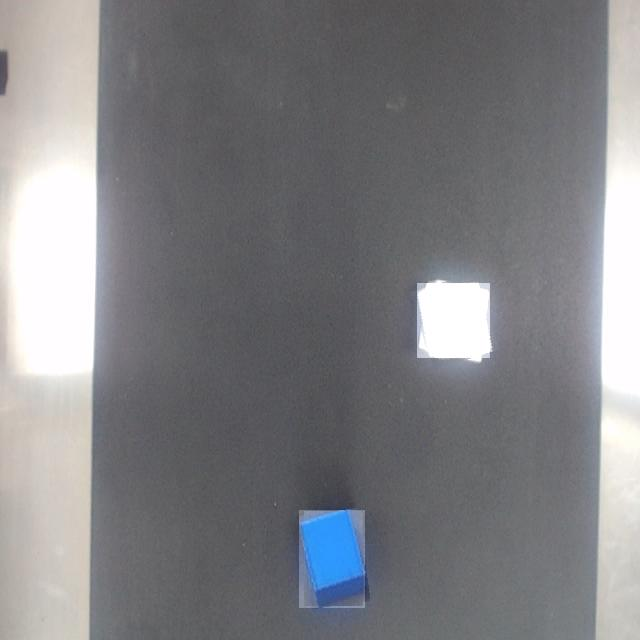Azul: (300, 510, 365, 608)
Blanco: (417, 284, 490, 358)
